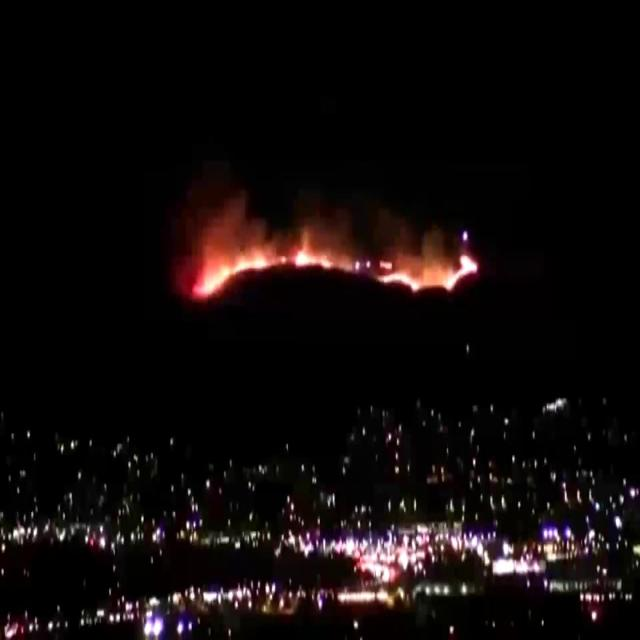Fire: (195, 200, 273, 298), (371, 222, 478, 292), (294, 218, 332, 270)
